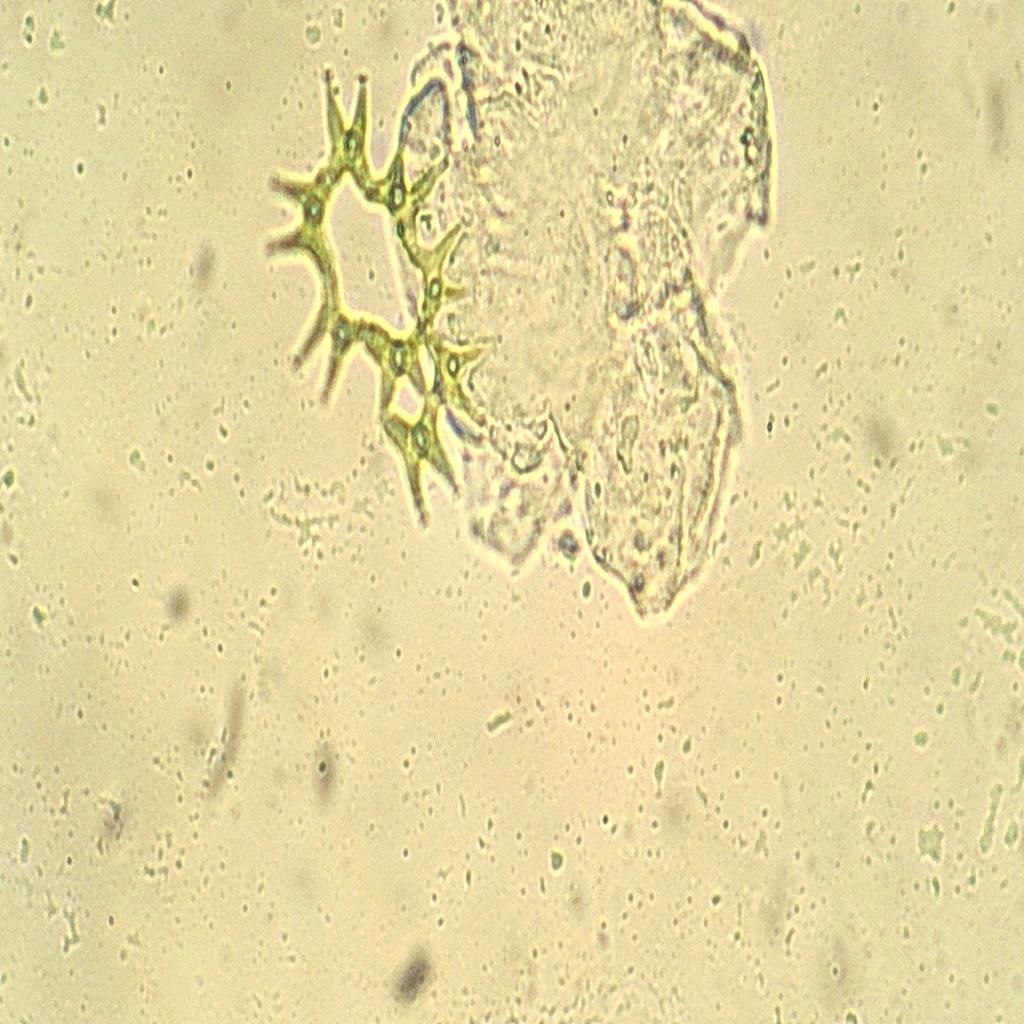Pediastrum_1TH: (254, 51, 520, 539)
